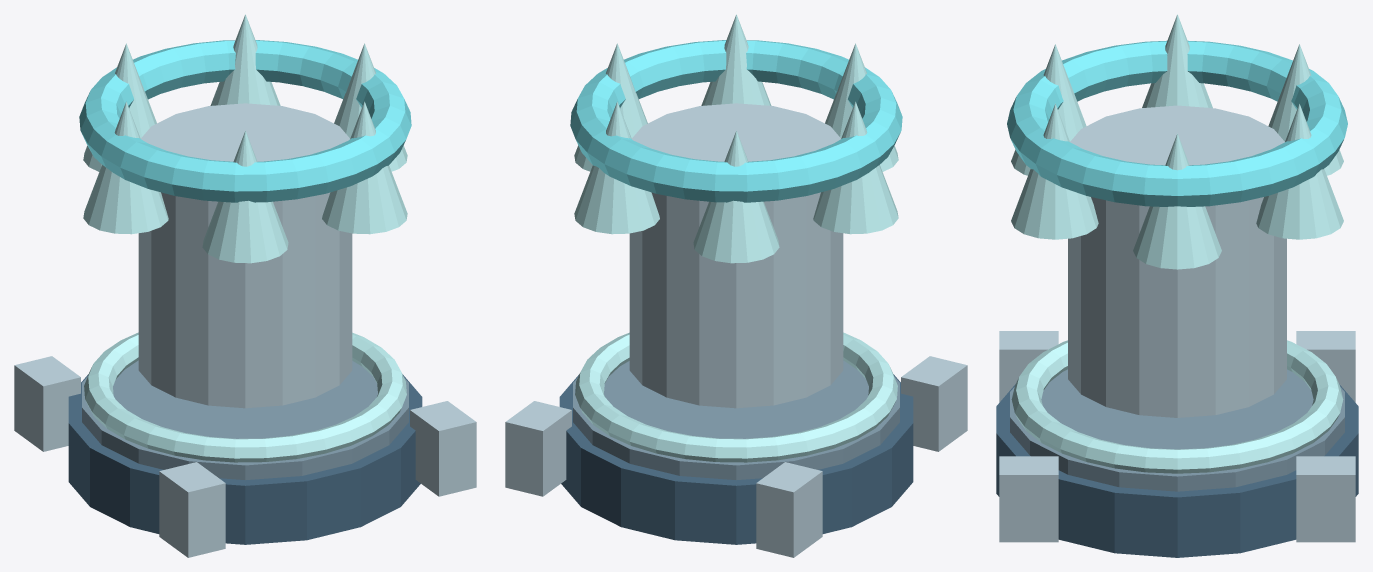
Rendered from glacial_emitter.glb.
3 renders of one model, left to right at view 1: azimuth 30°, elevation 25°; view 2: azimuth 150°, elevation 25°; view 3: azimuth 270°, elevation 25°, orthographic. The views are drawn at different scales.
Parts seen in each view (by area): view 1: frost_chamber_7, cooling_field_15, pedestal_0, armor_ring_1, energy_ring_2, bolt_5, bolt_6, bolt_3, ice_crystal_11, ice_crystal_10, ice_crystal_12, ice_crystal_14 (+2 smaller); view 2: frost_chamber_7, cooling_field_15, pedestal_0, armor_ring_1, energy_ring_2, bolt_3, bolt_4, bolt_5, ice_crystal_13, ice_crystal_14, ice_crystal_12, ice_crystal_10 (+2 smaller); view 3: frost_chamber_7, cooling_field_15, pedestal_0, armor_ring_1, energy_ring_2, bolt_4, bolt_6, ice_crystal_9, ice_crystal_10, ice_crystal_14, ice_crystal_12, bolt_3 (+3 smaller).
Boxes of the visible parts, x1,y1,x2,y2 form: frost_chamber_7: (138,103,352,408); cooling_field_15: (79,40,411,202); pedestal_0: (68,374,422,544); armor_ring_1: (82,360,408,480); energy_ring_2: (84,332,406,462); bolt_5: (159,462,225,557); bolt_6: (410,401,476,496); bolt_3: (14,356,80,451); ice_crystal_11: (202,130,288,263); ice_crystal_10: (322,101,407,234); ice_crystal_12: (83,101,168,234); ice_crystal_14: (210,14,280,105); frost_chamber_7: (629,103,843,408); cooling_field_15: (570,40,902,202); pedestal_0: (559,374,913,544); armor_ring_1: (573,360,899,480); energy_ring_2: (575,332,897,462); bolt_3: (756,462,822,557); bolt_4: (505,401,571,496); bolt_5: (901,356,967,451); ice_crystal_13: (693,130,779,263); ice_crystal_14: (574,101,659,234); ice_crystal_12: (813,101,898,234); ice_crystal_10: (701,14,771,105); frost_chamber_7: (1068,105,1286,417); cooling_field_15: (1007,40,1347,206); pedestal_0: (996,384,1358,557); armor_ring_1: (1010,369,1344,491); energy_ring_2: (1011,340,1343,473); bolt_4: (1296,456,1355,542); bolt_6: (999,456,1058,542); ice_crystal_9: (1133,133,1221,269); ice_crystal_10: (1011,103,1098,239); ice_crystal_14: (1256,103,1343,239); ice_crystal_12: (1142,14,1212,107); bolt_3: (1296,331,1355,402).
Size of the model in its own units: 1 by 1.21 by 0.9765.
